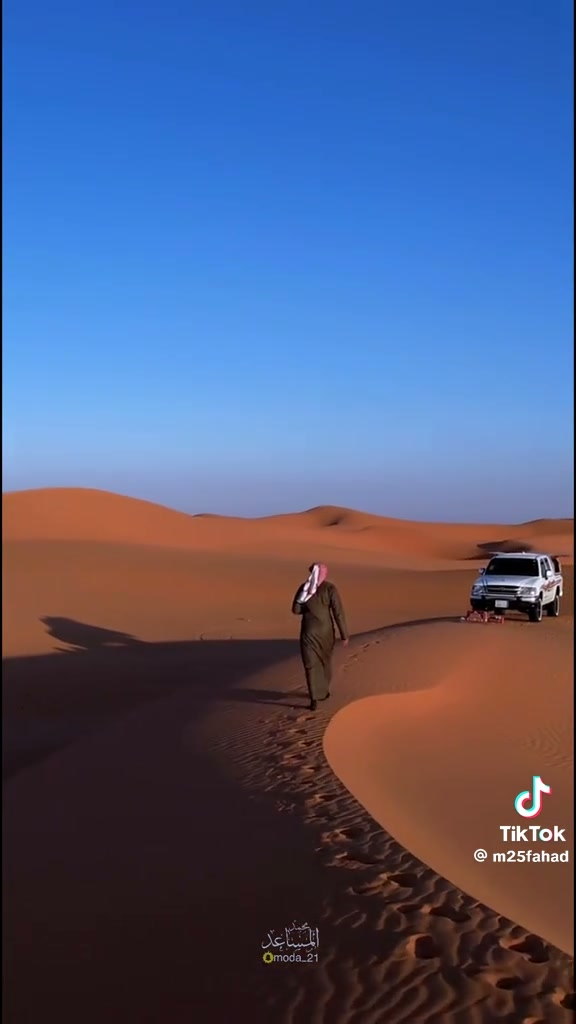human_footprint: (292, 563, 348, 710), (500, 918, 572, 965), (415, 893, 472, 924), (390, 865, 436, 897), (400, 928, 440, 958), (308, 785, 340, 822), (488, 973, 536, 995), (350, 846, 395, 868), (347, 815, 376, 838), (280, 745, 311, 765), (275, 710, 302, 726)
